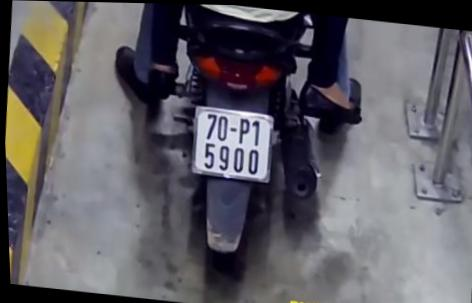LP: (189, 105, 276, 182)
